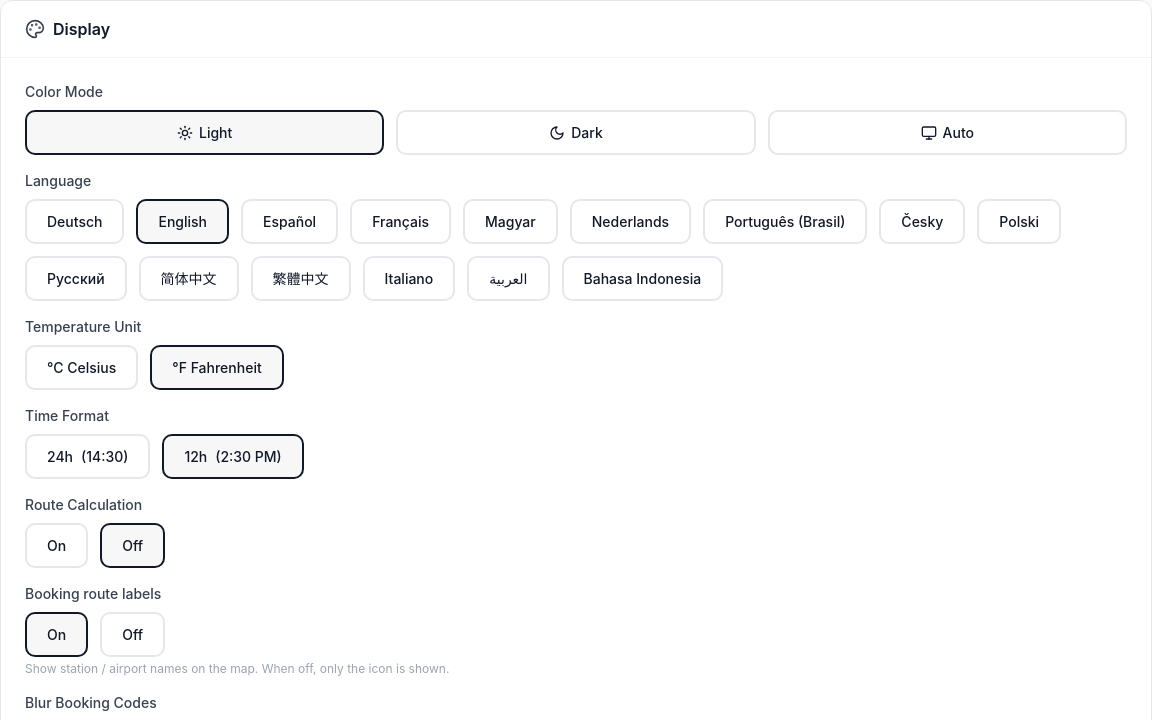
Test: DisplaySettingsTab › FE-COMP-DISPLAY-026: updateSetting failure shows toast error
Click the button "Dark": coordinates (576, 132) [396, 110, 756, 155]
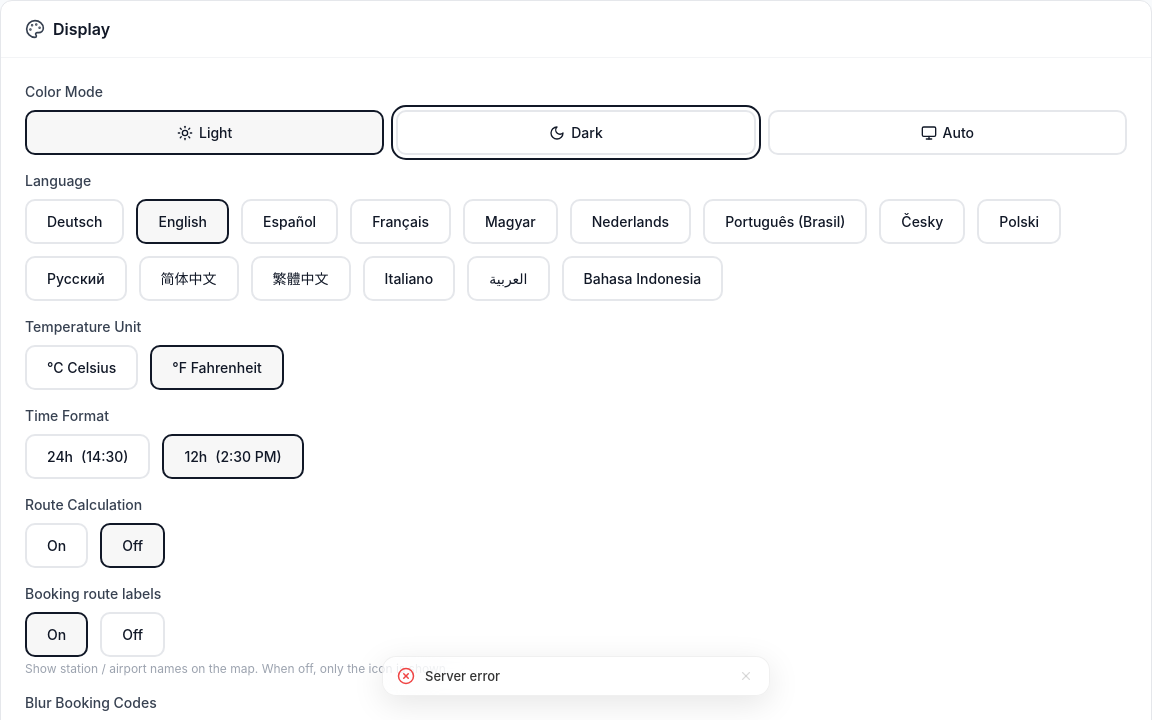
Expected: the text "Server error" is shown, [425, 668, 500, 684]
